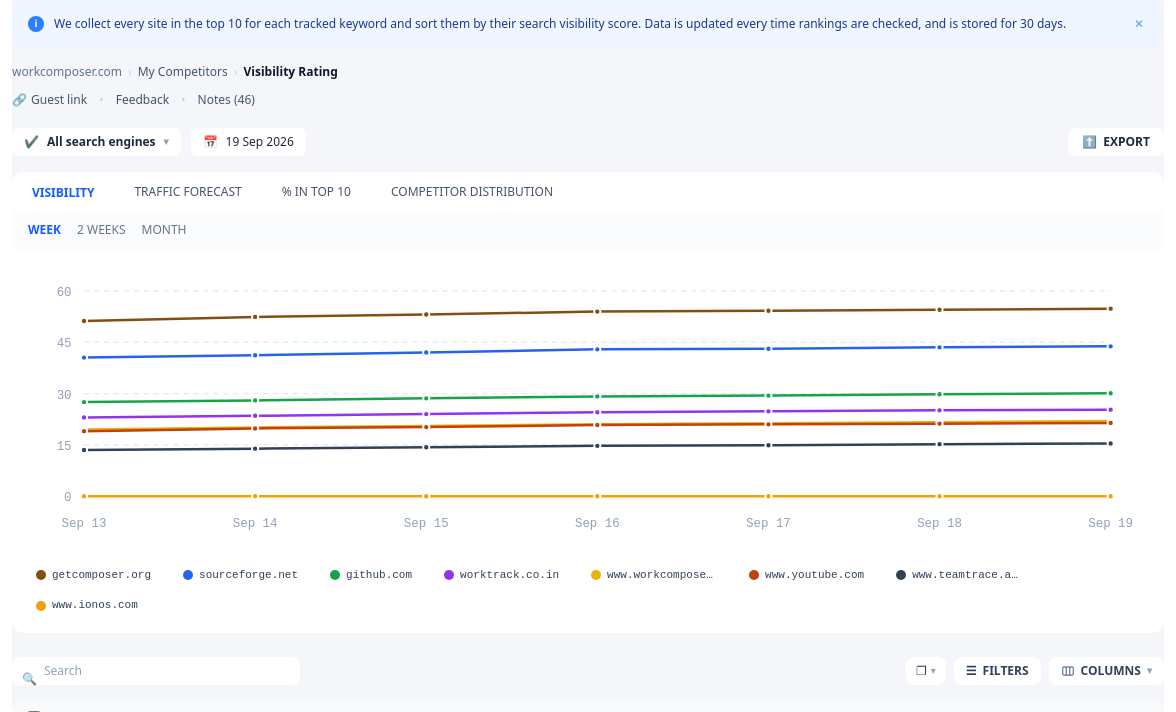
Test case: VisibilityRatingView Component › opens single-date comparison calendar, navigates months, selects a day, and applies it
Step 1. Click the button with aria-label "Select date" → (248,142), box 191,128 -> 306,156
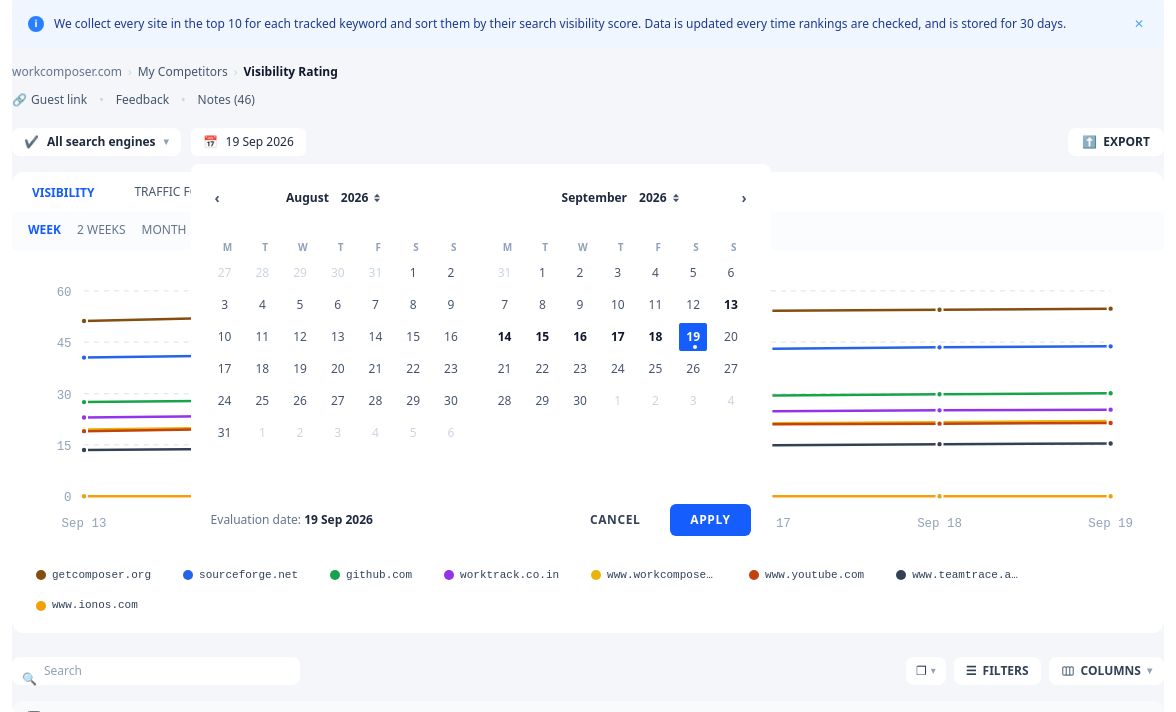
Now the element with test id "visibility-calendar-popover" is shown, box 191,164 -> 771,556
// Month headers and navigation
Step 2. Click the button named "Previous month" → (217,198), box 211,184 -> 224,212
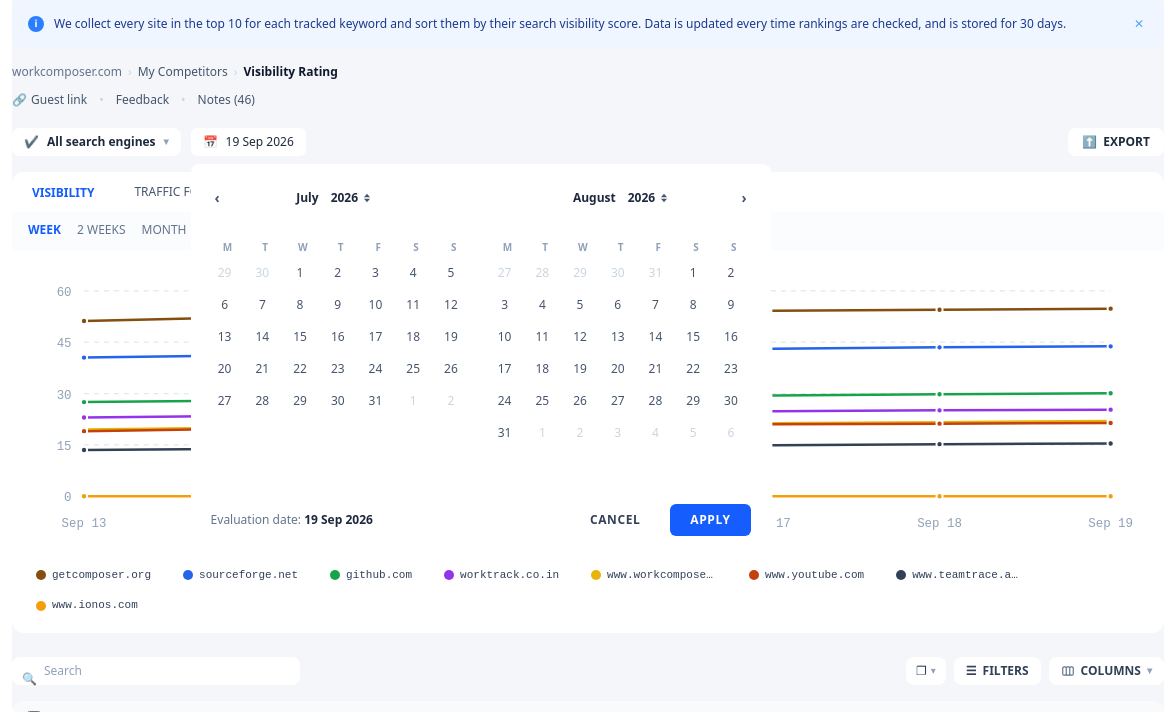
Step 3. Click the button named "Next month" → (744,198), box 737,184 -> 751,212
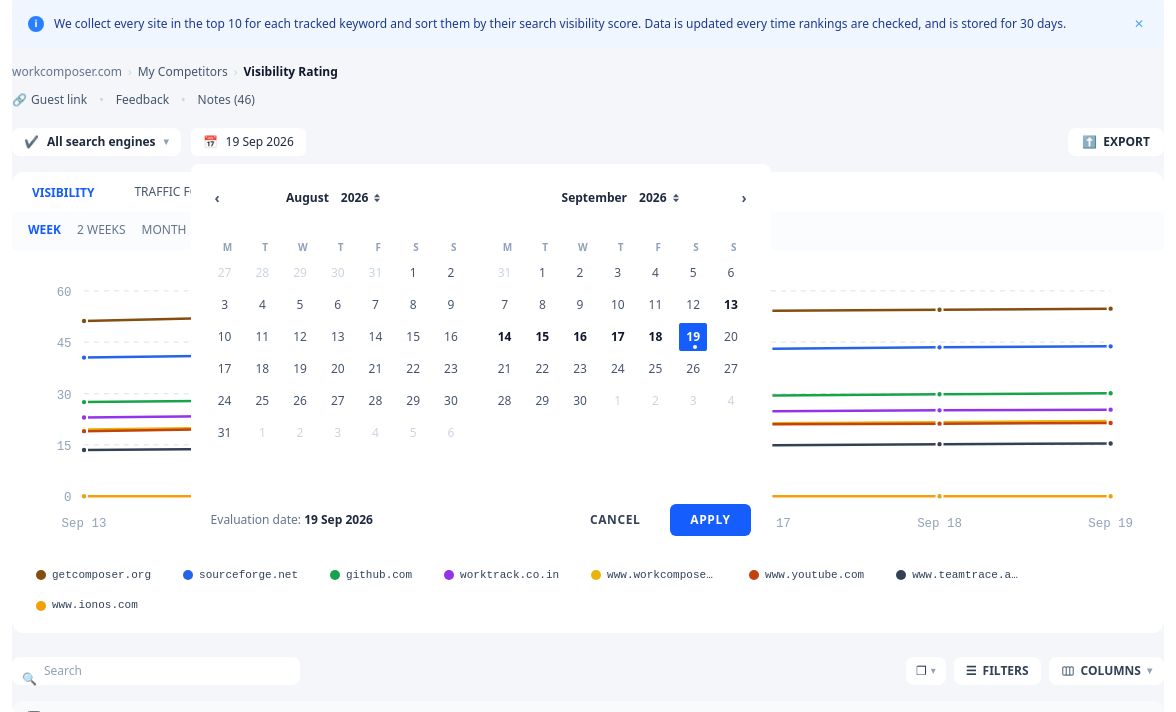
// Select date 18 Sep 2026
Step 4. Click the button named "18 September 2026" → (656,337), box 642,323 -> 670,351
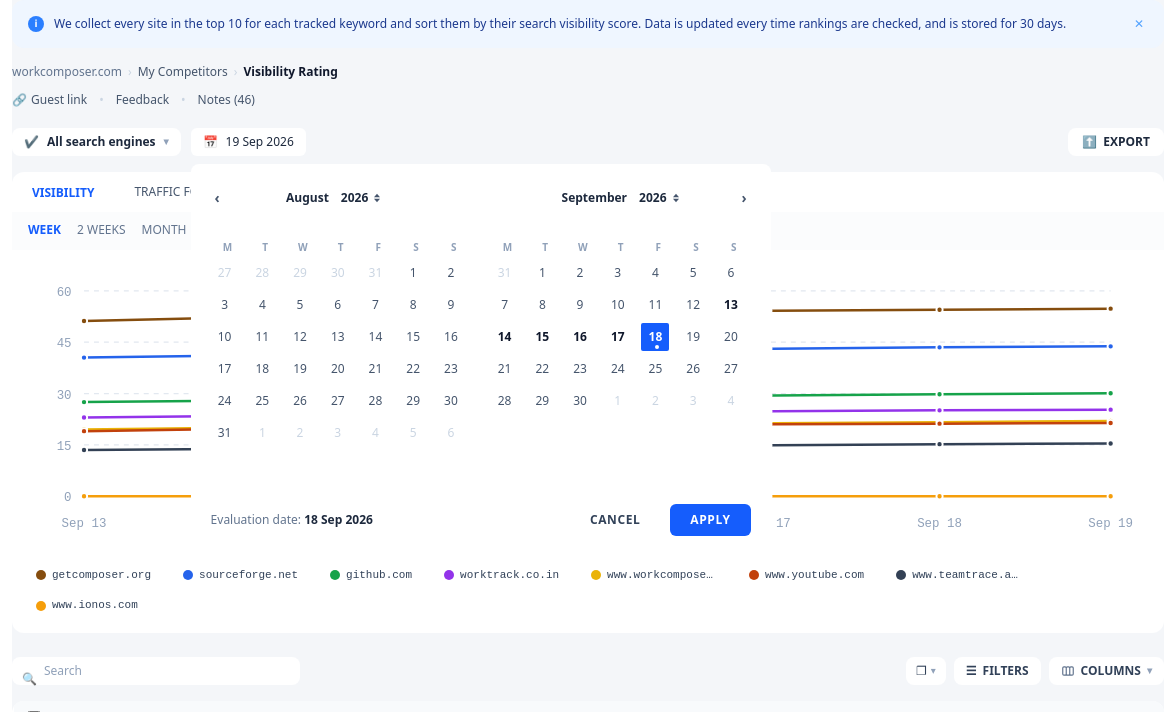
// Click Apply
Step 5. Click the button "APPLY" → (710,520), box 670,504 -> 751,536
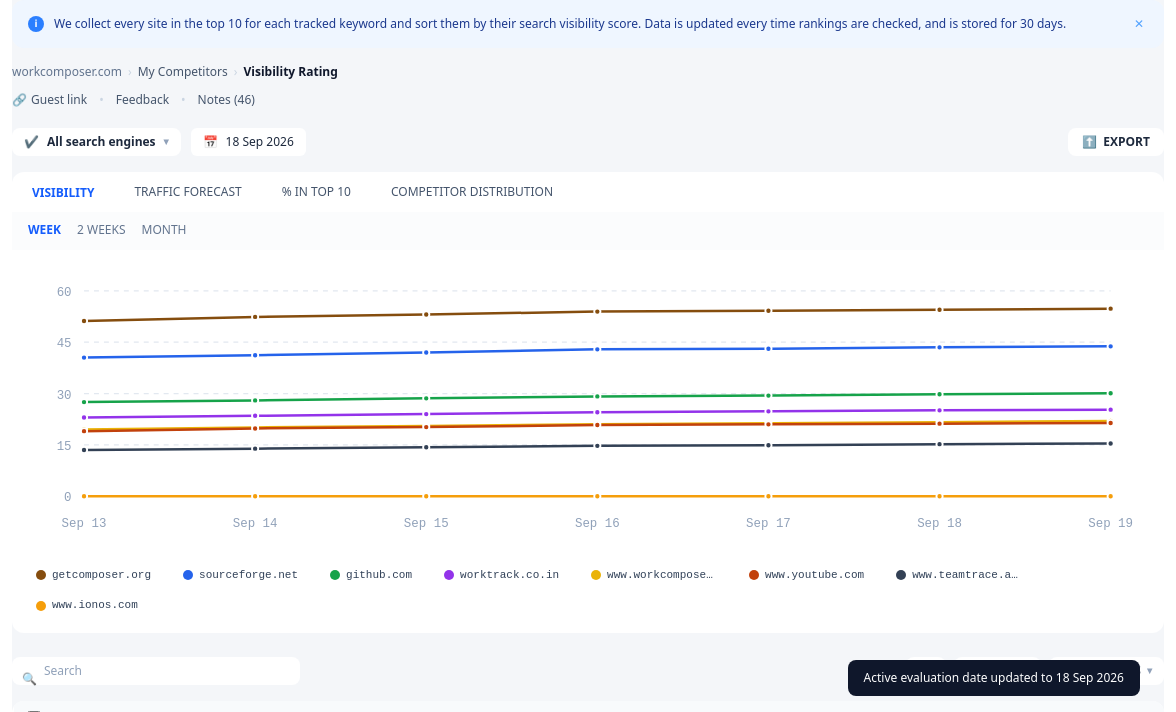
Now the element with test id "visibility-calendar-popover" is gone
Now the text "18 Sep 2026" is shown, box 226,134 -> 294,150
Now the text "Active evaluation date updated to 18 Sep 2026" is shown, box 848,660 -> 1140,696
